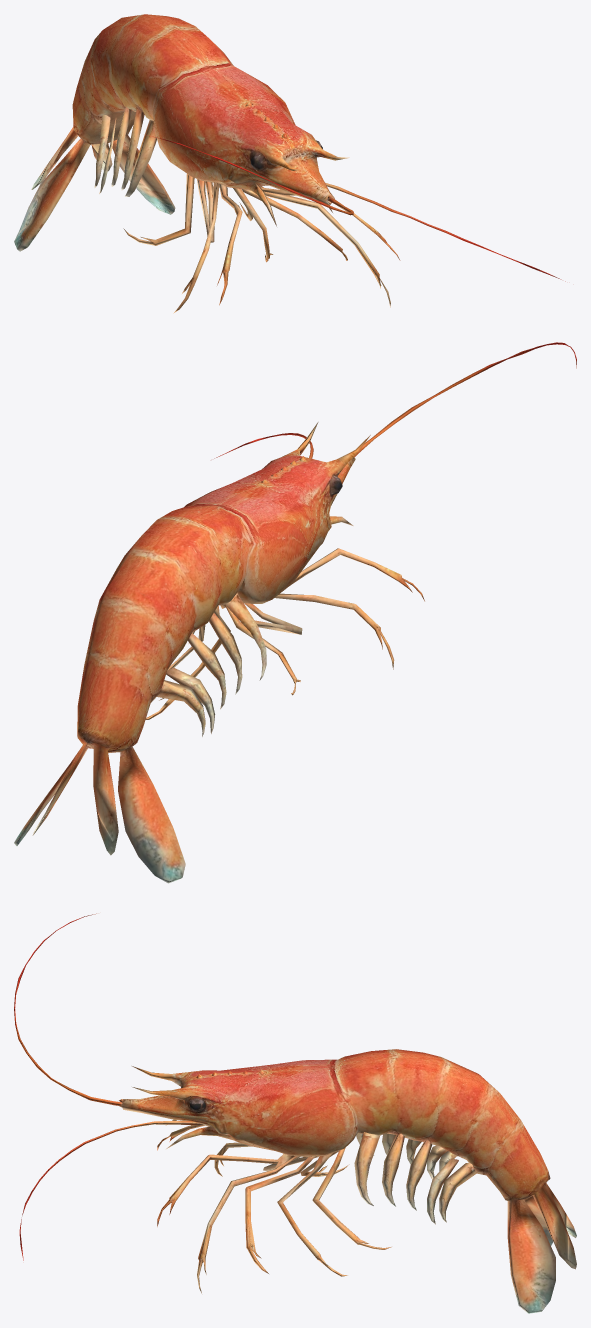
Rendered from 海虾之影.glb.
The picture shows the model from 3 angles, top to bottom: view 1: azimuth 30°, elevation 25°; view 2: azimuth 150°, elevation 25°; view 3: azimuth 270°, elevation 25°; orthographic projection. The views are drawn at different scales.
Visible parts, largest first — view 1: tripo_node_388c1214-8375-40f3-86e5-cdd8ee222db1; view 2: tripo_node_388c1214-8375-40f3-86e5-cdd8ee222db1; view 3: tripo_node_388c1214-8375-40f3-86e5-cdd8ee222db1.
Part boxes in pixels (x1,y1,x2,y2): tripo_node_388c1214-8375-40f3-86e5-cdd8ee222db1: (14, 14, 565, 313); tripo_node_388c1214-8375-40f3-86e5-cdd8ee222db1: (14, 342, 576, 883); tripo_node_388c1214-8375-40f3-86e5-cdd8ee222db1: (14, 913, 576, 1313).
Size of the model in its own units: 0.6934 by 0.5566 by 0.998.
Materials: 1 (1 with a texture image).
